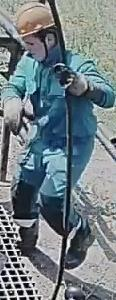gloves: (52, 60, 89, 102), (0, 97, 27, 138)
helmet: (11, 0, 56, 41)
vest: (13, 48, 98, 152)
